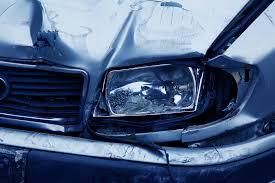Headlight-Damage: (90, 63, 246, 126)
bonnet-dent: (0, 0, 205, 60)
front-bumper-dent: (0, 124, 270, 182)
